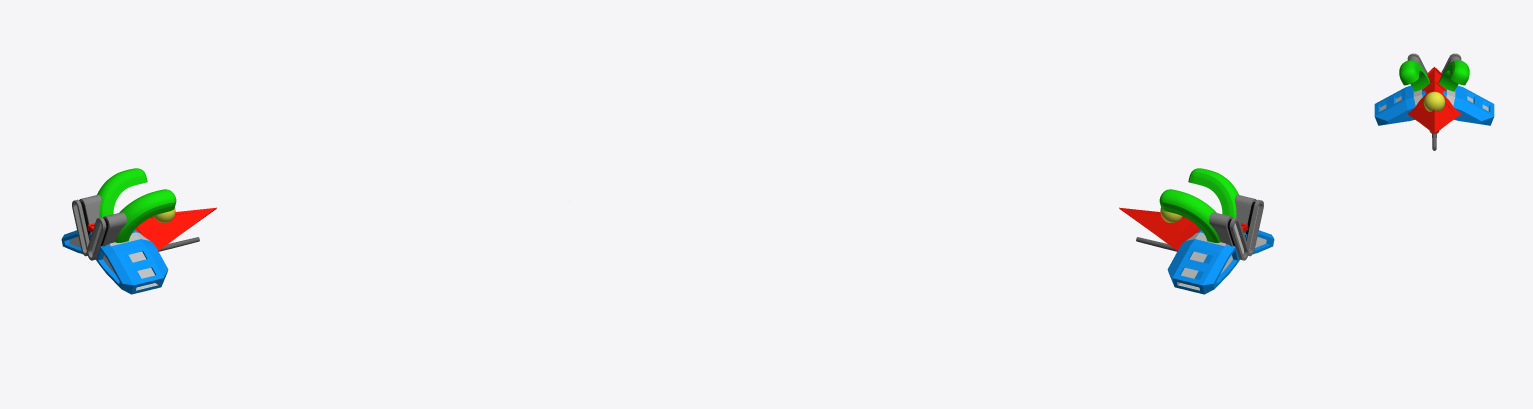
The model's file is chimera-turntable.fbx.
3 renders of one model, left to right at view 1: azimuth 30°, elevation 25°; view 2: azimuth 150°, elevation 25°; view 3: azimuth 270°, elevation 25°, orthographic. The views are drawn at different scales.
Parts seen in each view (by area): view 1: Cube.002, Cylinder.001, Cube.014, Cone; view 2: Cube.008, Cylinder.001, Cube.014, Cone; view 3: Cylinder.001, Cone, Cube.002, Cube.008, Cube.009, Cube.014.
Part boxes in pixels (bbox=[...]): Cube.002: bbox=[96, 230, 168, 294]; Cylinder.001: bbox=[97, 168, 176, 242]; Cube.014: bbox=[72, 194, 126, 260]; Cone: bbox=[87, 207, 216, 250]; Cube.008: bbox=[1167, 230, 1239, 294]; Cylinder.001: bbox=[1159, 168, 1238, 242]; Cube.014: bbox=[1209, 194, 1263, 260]; Cone: bbox=[1119, 207, 1248, 250]; Cylinder.001: bbox=[1399, 60, 1469, 91]; Cone: bbox=[1407, 67, 1461, 133]; Cube.002: bbox=[1374, 85, 1425, 125]; Cube.008: bbox=[1443, 85, 1494, 125]; Cube.009: bbox=[1423, 91, 1445, 111]; Cube.014: bbox=[1407, 53, 1461, 75].
Size of the model in its own units: 641 by 200 by 200.
